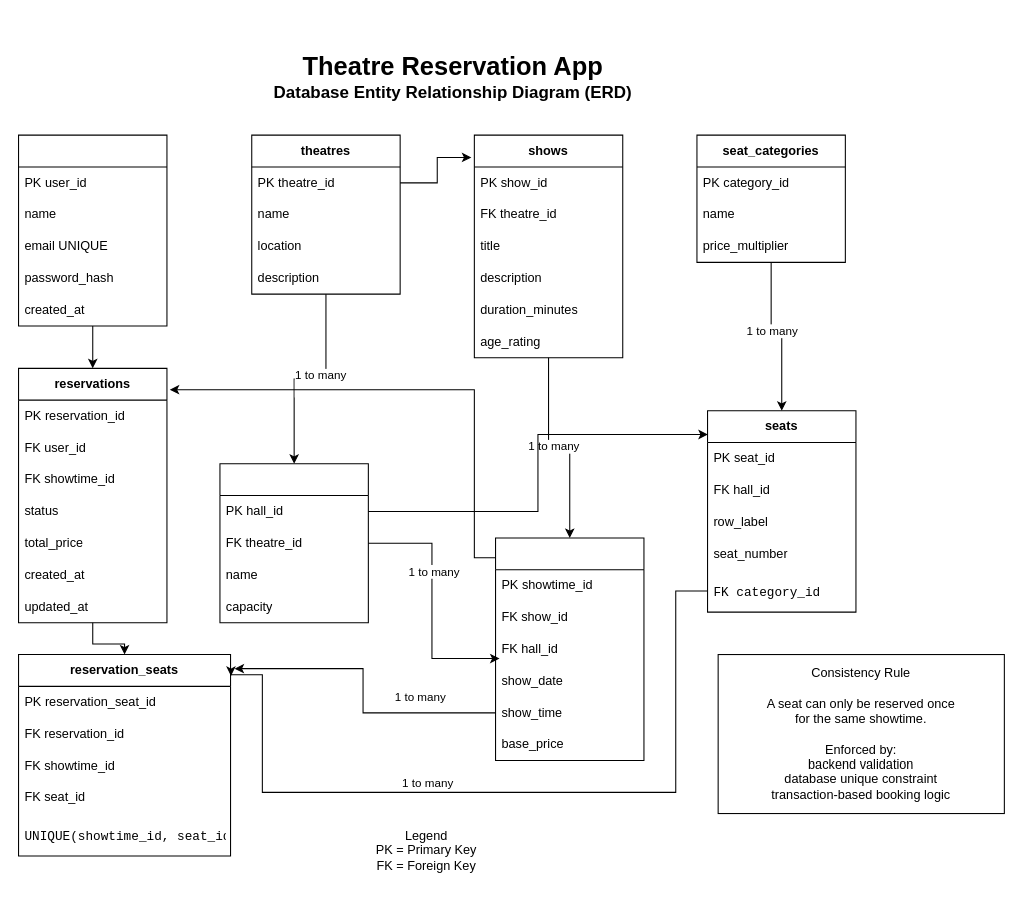
Image size: 1023x905. Some labels were removed from this diagram. Here are the shapes that lost their labels. From the top down, the box of each, then its label:
(17, 134, 167, 326): users
(219, 463, 368, 623): halls
(494, 537, 644, 761): showtimes
